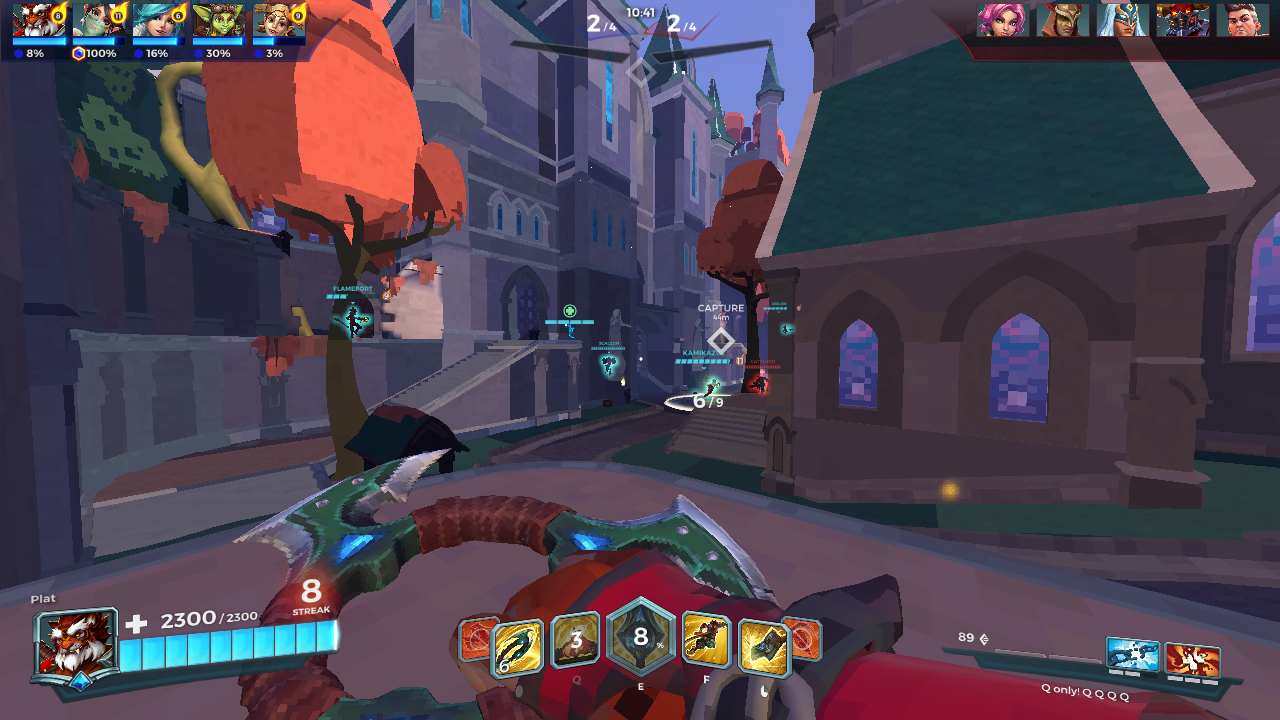model: (745, 371, 776, 402)
